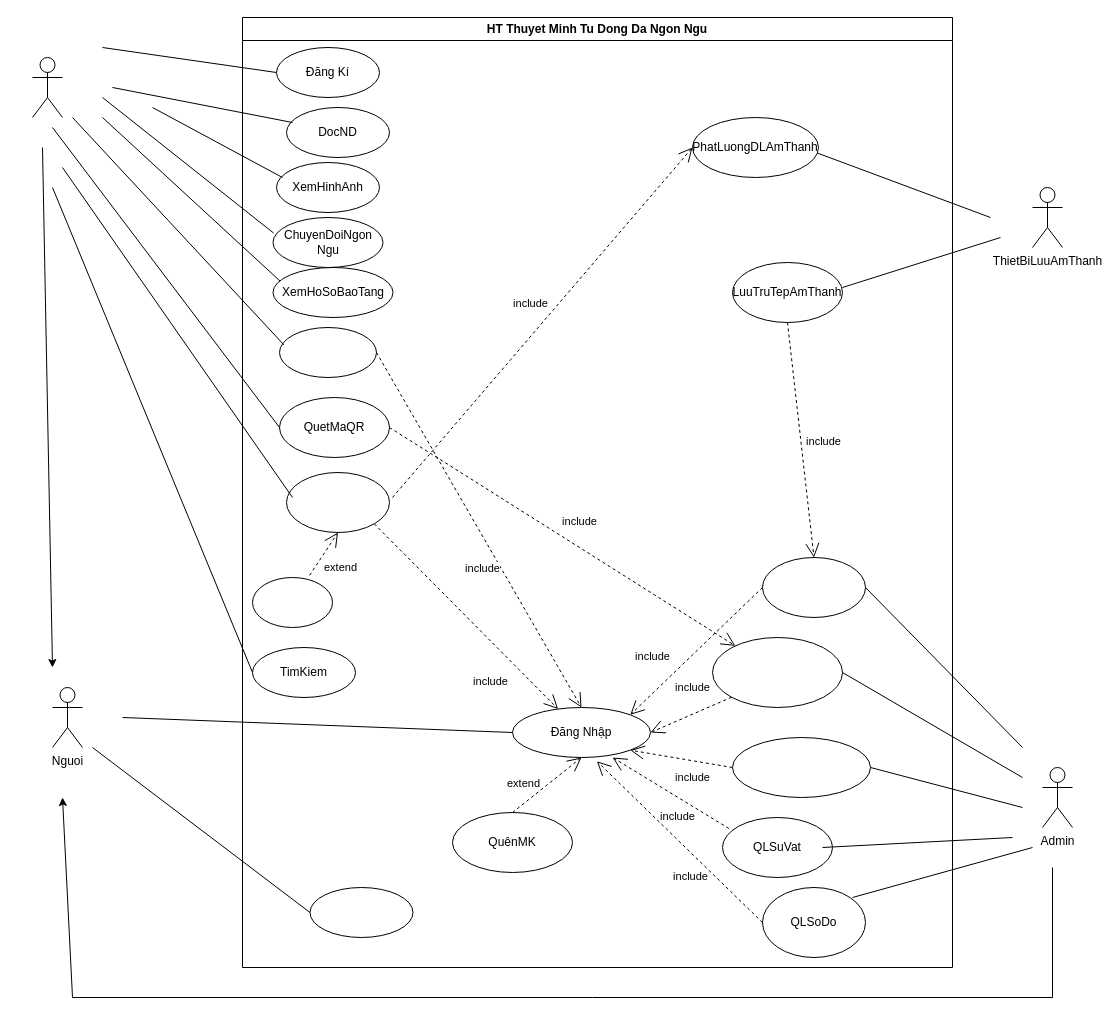
Some shapes in this 1119 by 1023 pixel diagram are drawn without their labels. Here are the shapes that lost their labels. From the top down, the centre of each, then its label:
At point (47, 87): "NguoiDung".
At point (327, 352): "LuuSVYeuThich".
At point (338, 502): "NgheThuyetMinh".
At point (292, 602): "XemPhuDe".
At point (814, 587): "QLTepAmThanh".
At point (777, 672): "ChinhSuaQR".
At point (801, 767): "XemThongKeLuotNghe".
At point (361, 912): "DangXuat".
